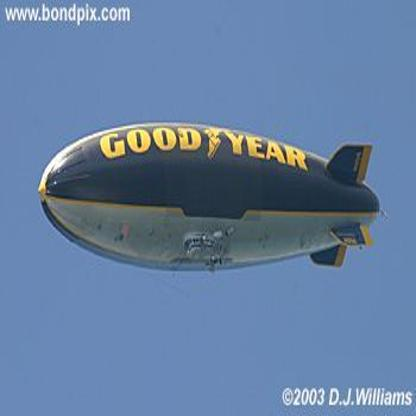Airship: (36, 119, 388, 290)
